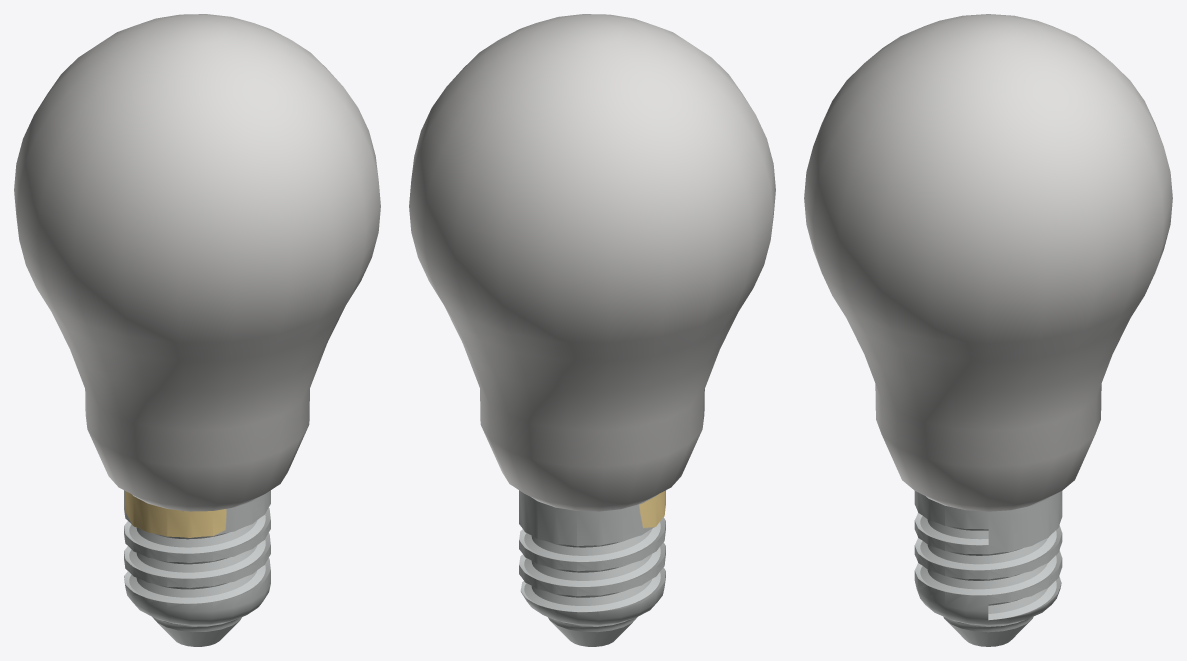
Rendered from Lightbulb.fbx.
3 renders of one model, left to right at view 1: azimuth 30°, elevation 25°; view 2: azimuth 150°, elevation 25°; view 3: azimuth 270°, elevation 25°, orthographic.
Visible parts, largest first — view 1: Bulb, Base; view 2: Bulb, Base; view 3: Bulb, Base.
Boxes of the visible parts, left/top/right/bottom form: Bulb: left=14, top=14, right=380, bottom=511; Base: left=124, top=490, right=270, bottom=646; Bulb: left=409, top=14, right=775, bottom=511; Base: left=519, top=490, right=665, bottom=646; Bulb: left=804, top=14, right=1172, bottom=511; Base: left=914, top=491, right=1062, bottom=646.
Bounding box in the file's own units: 2 × 3.62 × 2.
